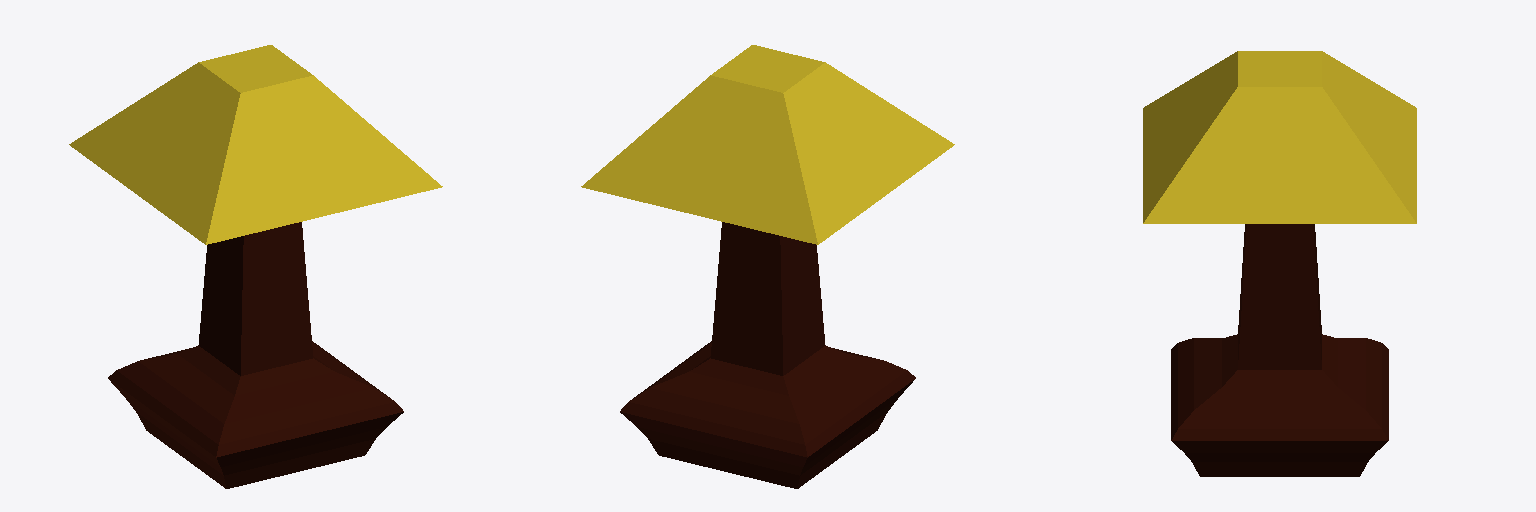
The model's file is lamp.obj.
The picture shows the model from 3 angles: view 1: azimuth 30°, elevation 25°; view 2: azimuth 150°, elevation 25°; view 3: azimuth 270°, elevation 25°; orthographic projection.
Parts seen in each view (by area): view 1: Cube; view 2: Cube; view 3: Cube.
Boxes of the visible parts, x1=… form: Cube: x1=69, y1=45, x2=442, y2=488; Cube: x1=581, y1=45, x2=954, y2=488; Cube: x1=1143, y1=51, x2=1416, y2=476.
Bounding box in the file's own units: 3.43 × 5.16 × 3.43.